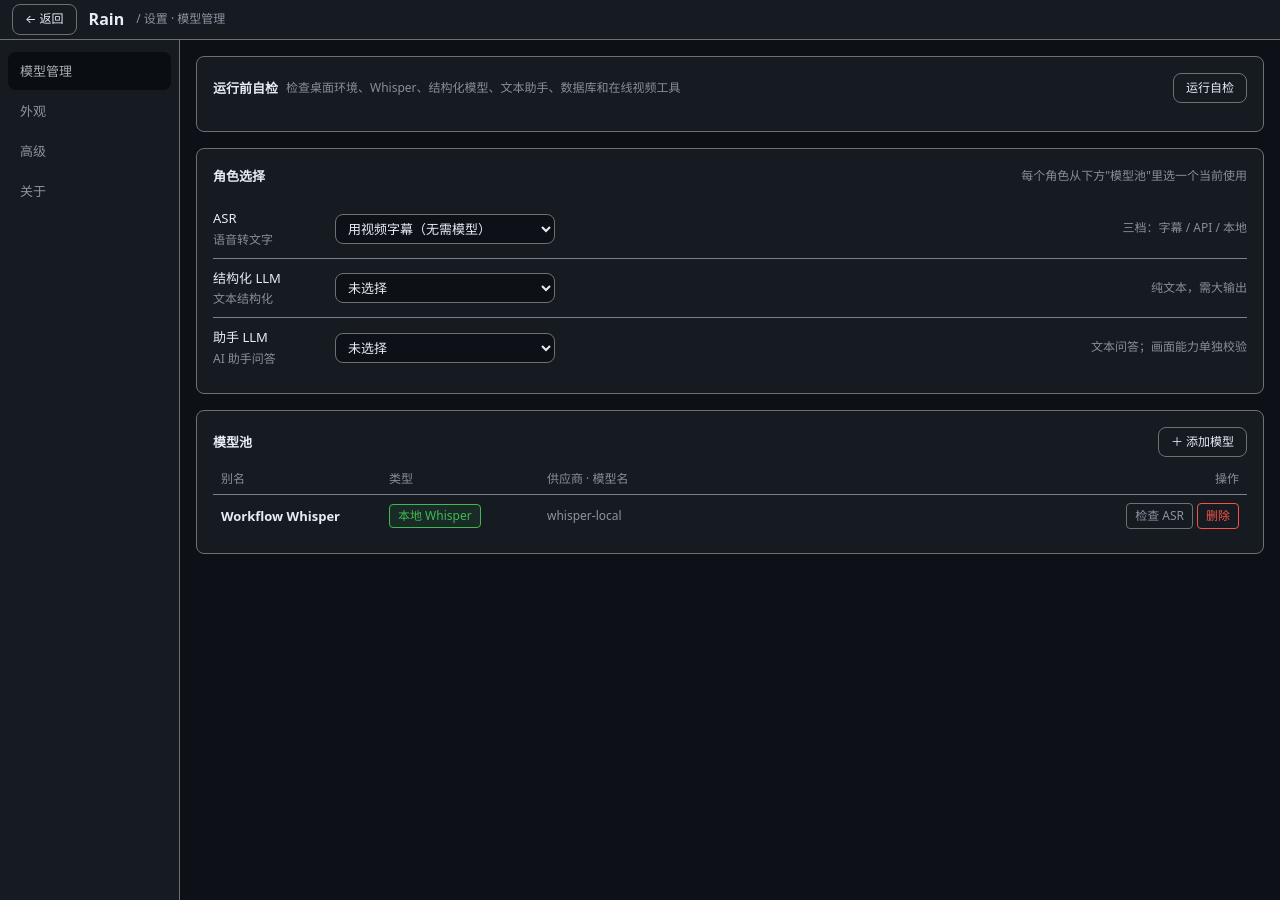
Test: AC-LV-12 settings ASR capability workflow › persists a passing real-transcription check and unlocks the ASR role option
Click the button "检查 ASR" at [1160, 516], box [1126,503,1193,529]
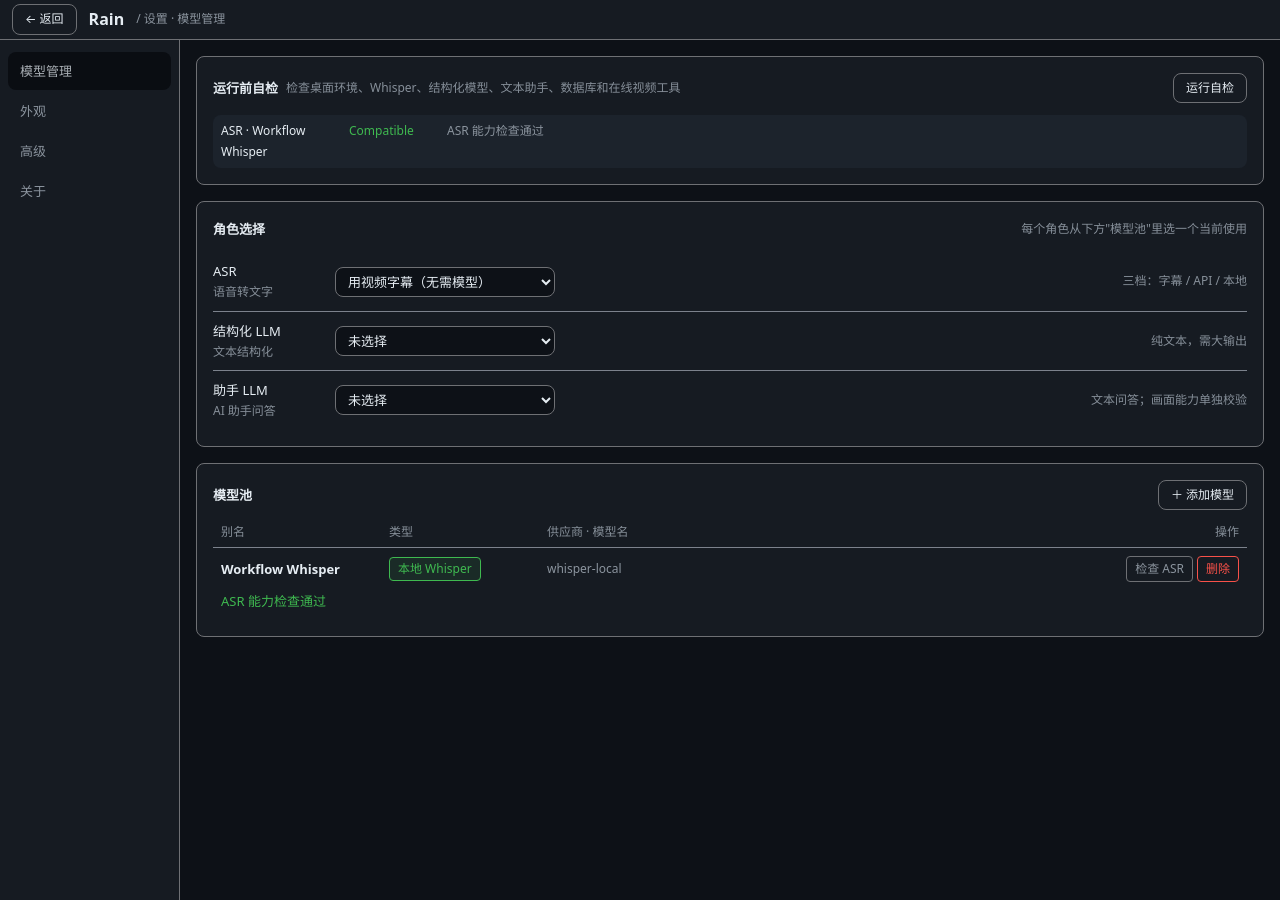
Expected: the message reads "ASR 能力检查通过", [221,592,326,610]
